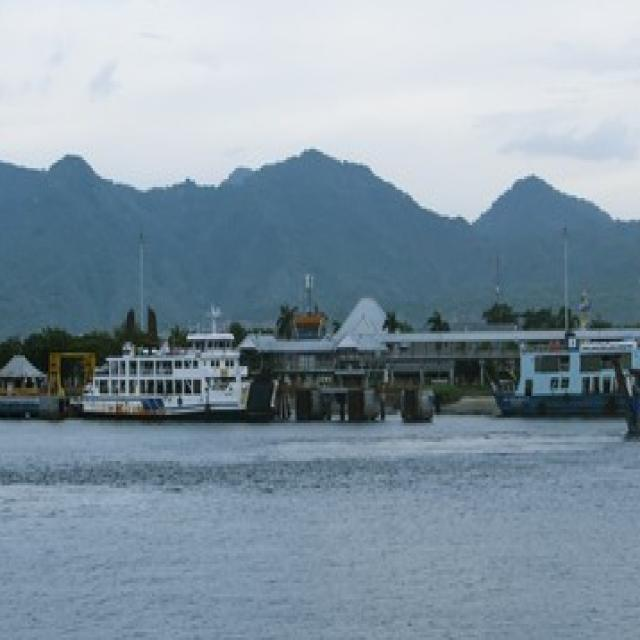passenger ship: (72, 314, 257, 449)
